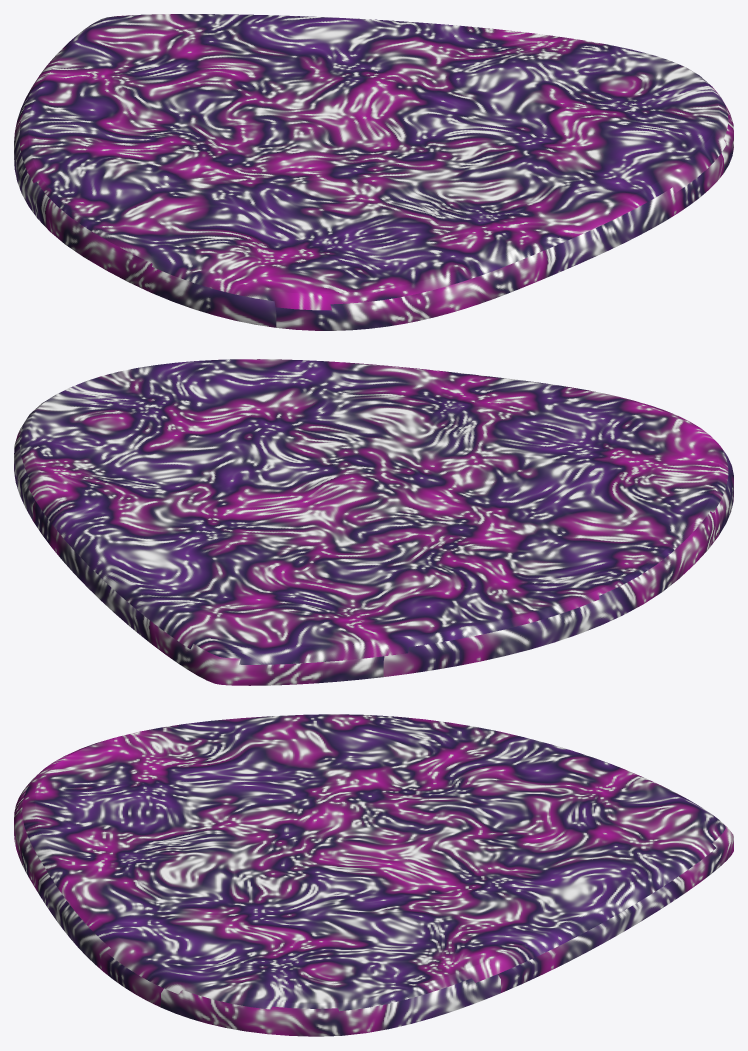
Rendered from poison puddle.fbx.
3 views of the same model, one above another, from view 1: azimuth 30°, elevation 25°; view 2: azimuth 150°, elevation 25°; view 3: azimuth 270°, elevation 25° (orthographic). The views are drawn at different scales.
Parts seen in each view (by area): view 1: BezierCircle; view 2: BezierCircle; view 3: BezierCircle.
Boxes of the visible parts, left/top/right/bottom form: BezierCircle: left=14, top=14, right=733, bottom=330; BezierCircle: left=14, top=359, right=733, bottom=685; BezierCircle: left=14, top=714, right=733, bottom=1036.
Size of the model in its own units: 504 by 22.11 by 513.
Materials: 1 (1 with a texture image).
